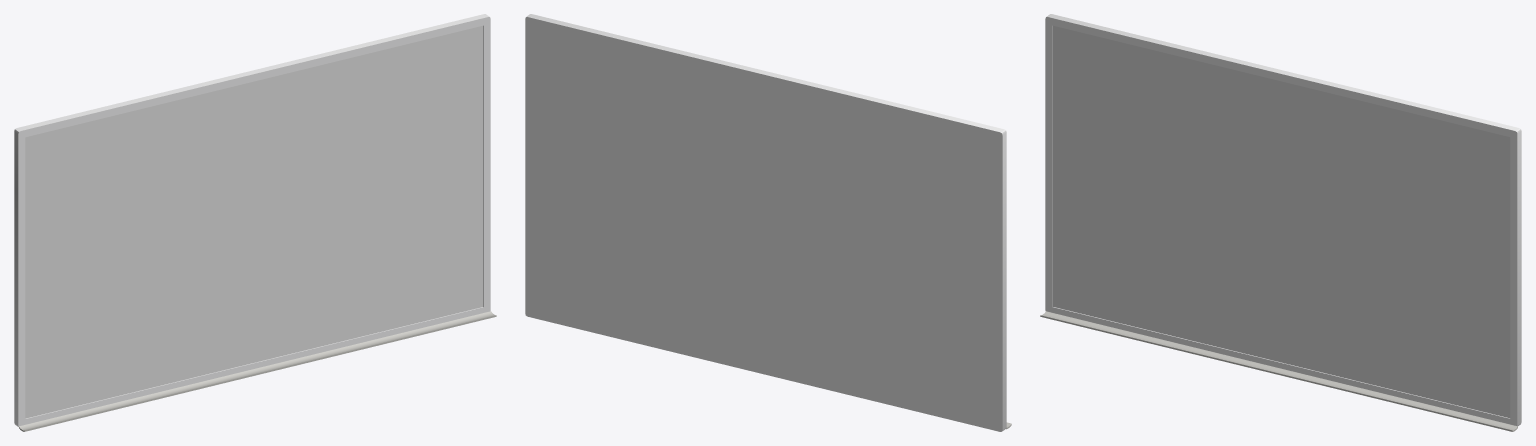
File: white_board__quadro_branco.glb
3 views of the same model, side by side, from view 1: azimuth 30°, elevation 25°; view 2: azimuth 150°, elevation 25°; view 3: azimuth 330°, elevation 25° (orthographic).
Visible parts, largest first — view 1: Object_8, Box001_0, Box002_4; view 2: Box001_0; view 3: Object_8, Box001_0, Box002_4.
Boxes of the visible parts, x1,y1,x2,y2 form: Object_8: (25, 26, 482, 418); Box001_0: (14, 14, 490, 426); Box002_4: (19, 311, 496, 431); Box001_0: (525, 14, 1006, 431); Object_8: (1053, 25, 1510, 418); Box001_0: (1045, 14, 1521, 426); Box002_4: (1040, 311, 1517, 431).
Size of the model in its own units: 2 by 1.2 by 0.0705.
Materials: 3 (1 with a texture image).
